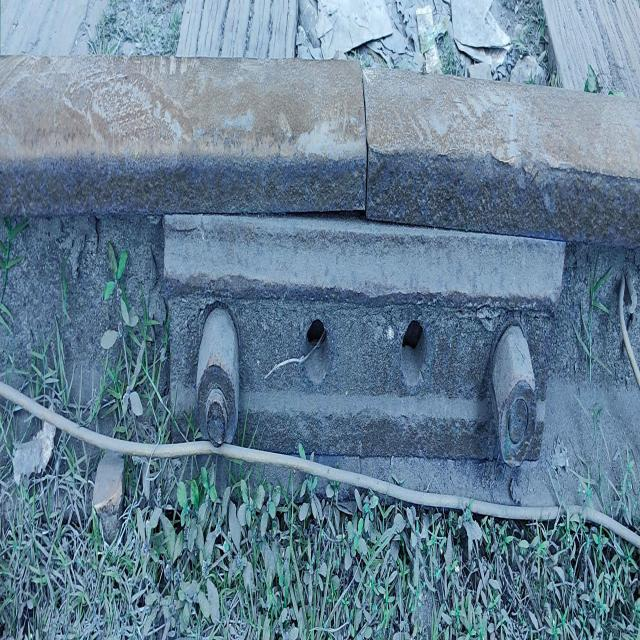Defective Joint: (161, 206, 585, 475)
